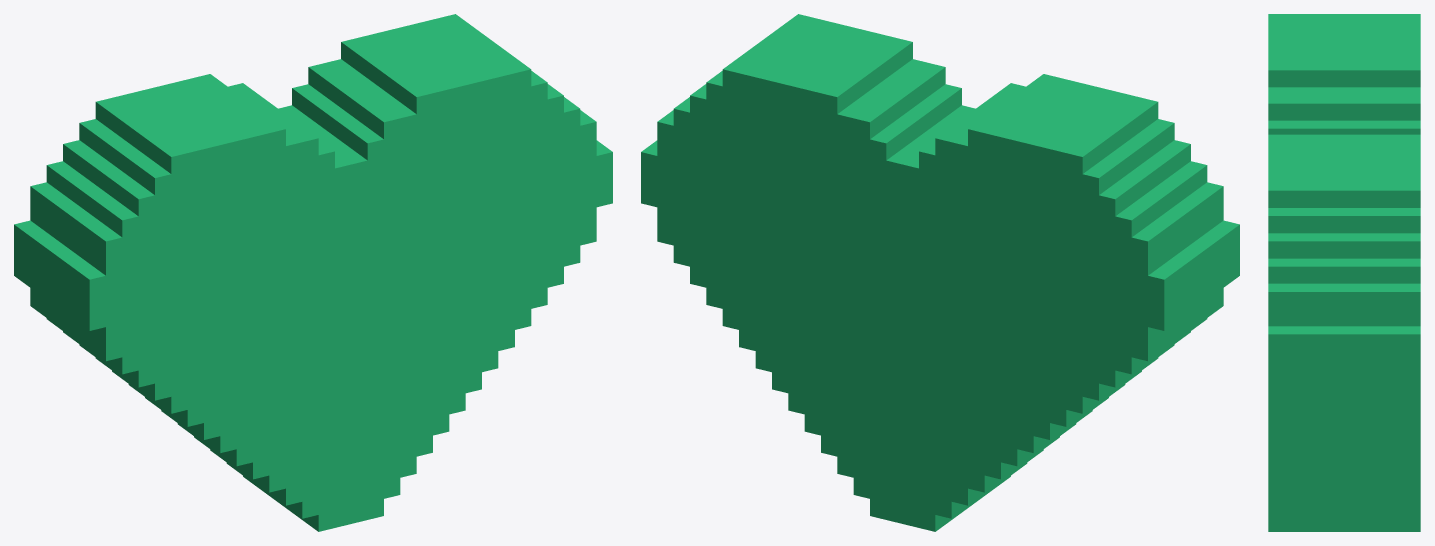
File: Heart_lvl2.fbx
3 renders of one model, left to right at view 1: azimuth 30°, elevation 25°; view 2: azimuth 150°, elevation 25°; view 3: azimuth 270°, elevation 25°, orthographic.
Visible parts, largest first — view 1: generated; view 2: generated; view 3: generated.
Boxes of the visible parts, x1,y1,x2,y2 form: generated: [14, 14, 612, 531]; generated: [641, 14, 1239, 531]; generated: [1268, 14, 1420, 531].
Size of the model in its own units: 320 by 240 by 80.
